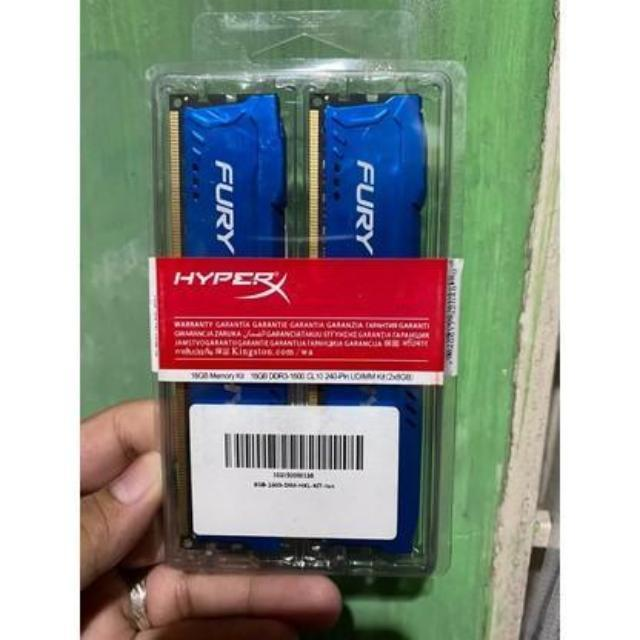RAM: (304, 89, 426, 562), (168, 89, 290, 551)
